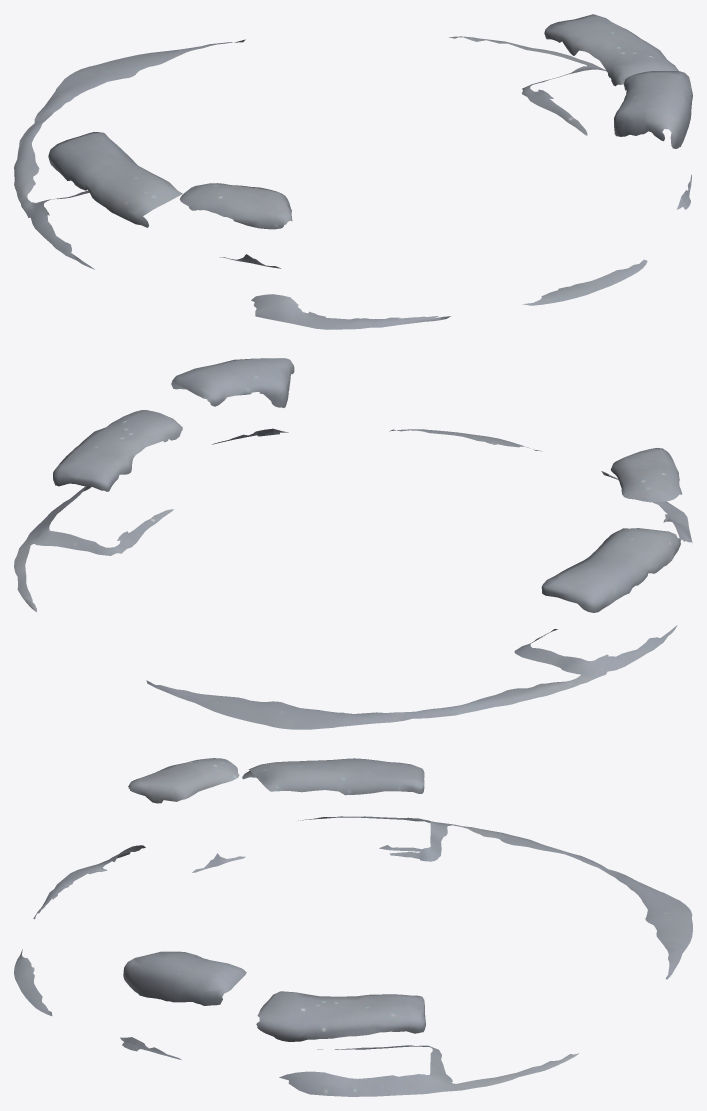
File: pref_sm_beach_winter_centersnow02_lv3.fbx
3 renders of one model, top to bottom at view 1: azimuth 30°, elevation 25°; view 2: azimuth 150°, elevation 25°; view 3: azimuth 270°, elevation 25°, orthographic. The views are drawn at different scales.
Visible parts, largest first — view 1: pref_sm_beach_winter_centersnow02_lv3; view 2: pref_sm_beach_winter_centersnow02_lv3; view 3: pref_sm_beach_winter_centersnow02_lv3.
Boxes of the visible parts, x1,y1,x2,y2 form: pref_sm_beach_winter_centersnow02_lv3: (14, 14, 692, 329); pref_sm_beach_winter_centersnow02_lv3: (14, 358, 692, 729); pref_sm_beach_winter_centersnow02_lv3: (14, 758, 692, 1096).
Size of the model in its own units: 12.57 by 1.97 by 12.91.
